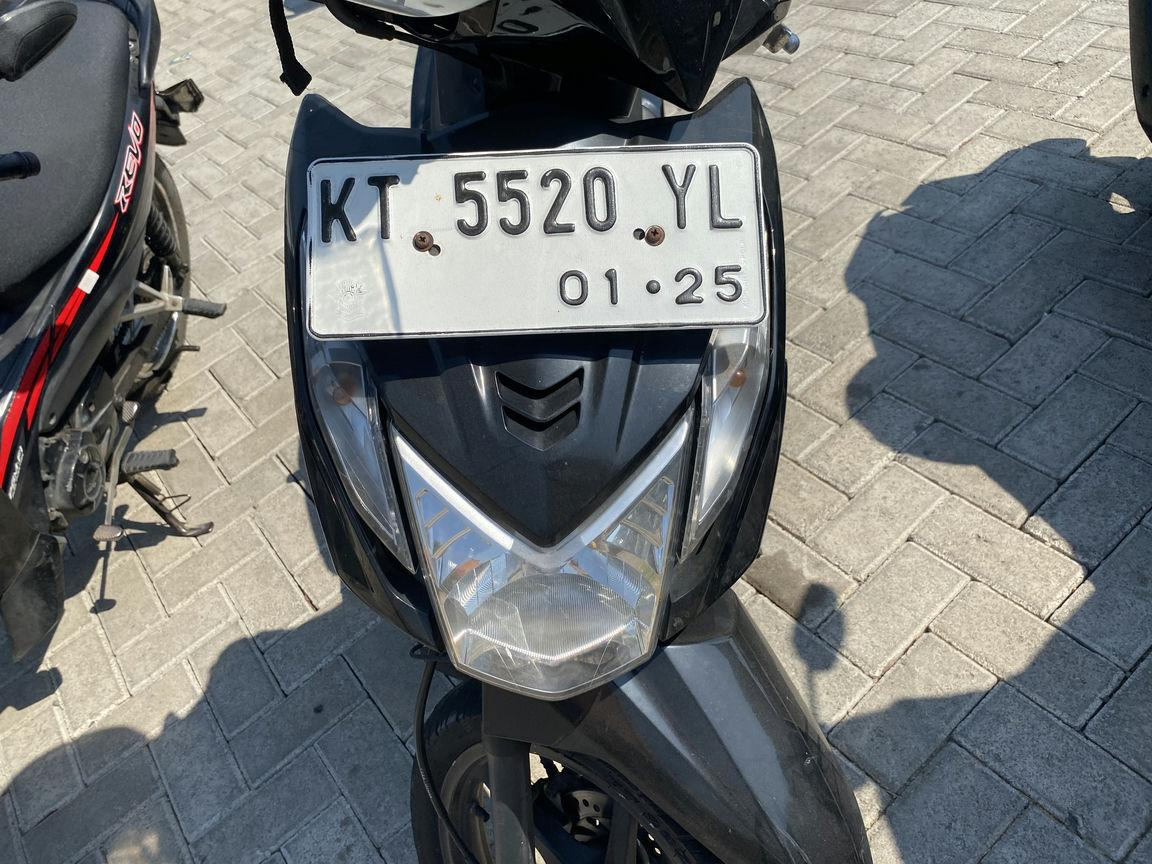plat: (306, 144, 767, 338)
